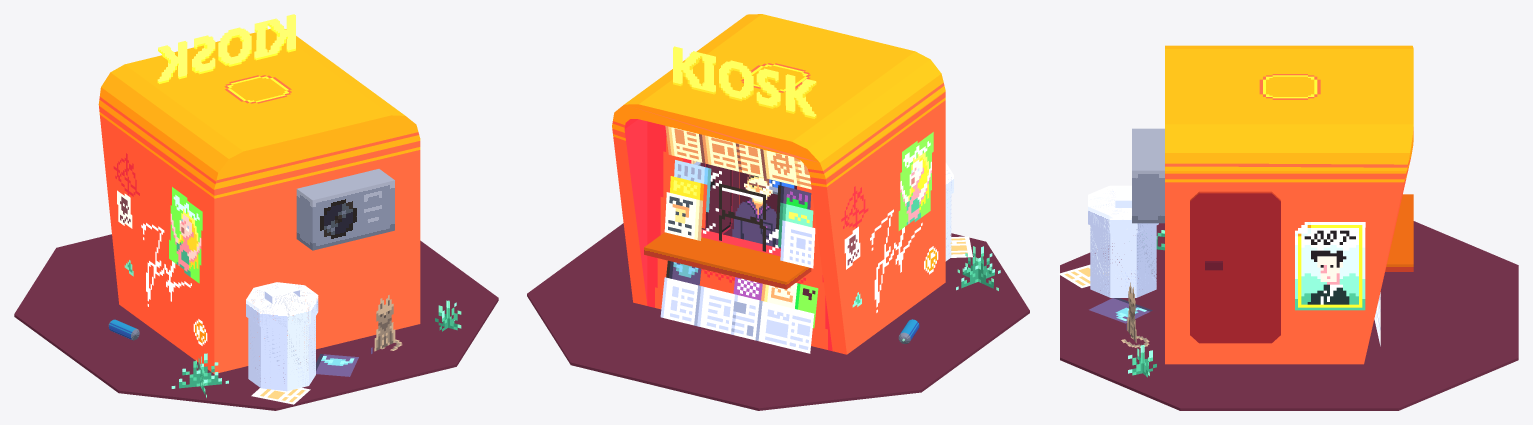
The model's file is kiosk.glb.
3 views of the same model, side by side, from view 1: azimuth 30°, elevation 25°; view 2: azimuth 150°, elevation 25°; view 3: azimuth 270°, elevation 25° (orthographic). The views are drawn at different scales.
Visible parts, largest first — view 1: kiosk_1, floor_24, trash_4, klima_11, billboard.001_12, cat_25, trashpaper.001_23, grass.002_17, billboard.002_20, trashpaper_22; view 2: kiosk_1, floor_24, papers_bottom.000_8, shelf_5, papers_bottom.002_10, billboard.002_20, papers_shelf_6, papers_shelf.001_7, papers_bottom.001_9, HUMAN_14, window.000_3, billboard.001_12 (+3 smaller); view 3: kiosk_1, floor_24, door_2, trash_4, klima_11, shelf_5, trashpaper.001_23, trashpaper_22.
Boxes of the visible parts, bbox=[...] form: kiosk_1: bbox=[98, 29, 420, 373]; floor_24: bbox=[14, 234, 498, 410]; trash_4: bbox=[246, 282, 318, 391]; klima_11: bbox=[296, 169, 394, 250]; billboard.001_12: bbox=[159, 15, 295, 83]; cat_25: bbox=[371, 295, 395, 353]; trashpaper.001_23: bbox=[316, 354, 358, 376]; grass.002_17: bbox=[171, 353, 228, 388]; billboard.002_20: bbox=[157, 14, 294, 83]; trashpaper_22: bbox=[251, 387, 310, 404]; kiosk_1: bbox=[612, 14, 945, 354]; floor_24: bbox=[527, 223, 1029, 410]; papers_bottom.000_8: bbox=[660, 277, 814, 353]; shelf_5: bbox=[644, 232, 811, 289]; papers_bottom.002_10: bbox=[665, 126, 811, 189]; billboard.002_20: bbox=[673, 47, 814, 118]; papers_shelf_6: bbox=[664, 160, 711, 240]; papers_shelf.001_7: bbox=[776, 185, 815, 268]; papers_bottom.001_9: bbox=[666, 260, 818, 328]; HUMAN_14: bbox=[732, 174, 780, 248]; window.000_3: bbox=[703, 171, 778, 252]; billboard.001_12: bbox=[674, 46, 816, 117]; kiosk_1: bbox=[1165, 45, 1413, 364]; floor_24: bbox=[1060, 221, 1518, 410]; door_2: bbox=[1190, 191, 1280, 343]; trash_4: bbox=[1088, 185, 1158, 297]; klima_11: bbox=[1132, 128, 1164, 223]; shelf_5: bbox=[1385, 194, 1413, 271]; trashpaper.001_23: bbox=[1089, 298, 1152, 323]; trashpaper_22: bbox=[1059, 264, 1108, 287].
Size of the model in its own units: 5.54 by 3.54 by 5.56.
25 materials, 25 textured.
